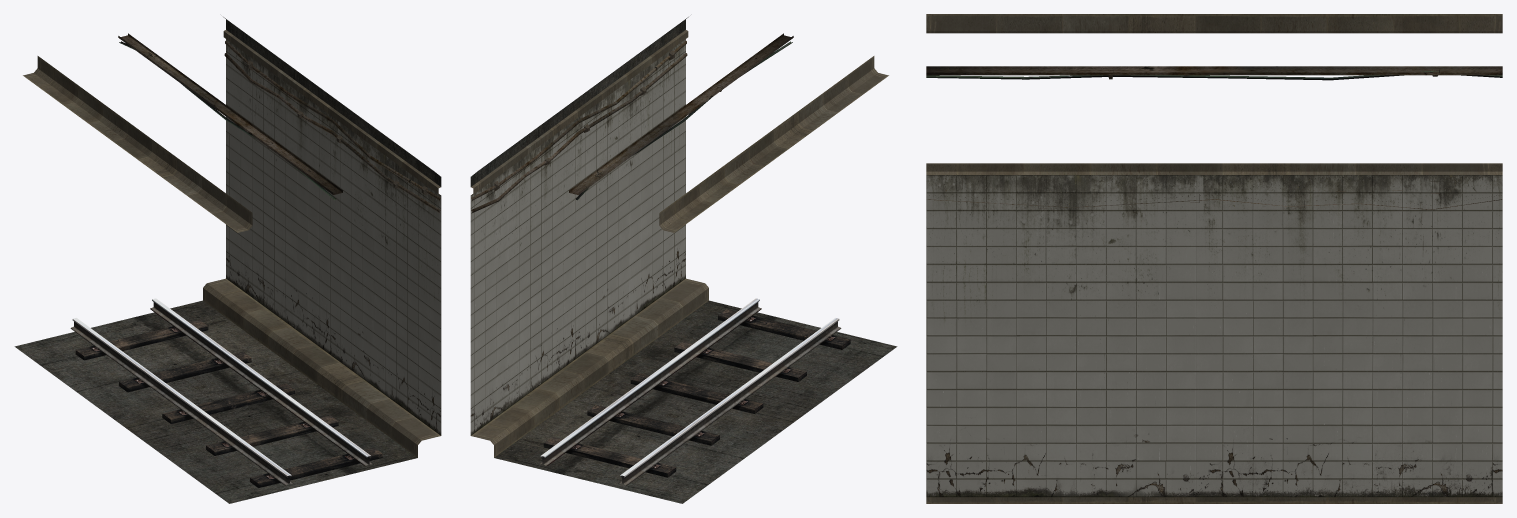
File: TunnelSideA.fbx
3 renders of one model, left to right at view 1: azimuth 30°, elevation 25°; view 2: azimuth 150°, elevation 25°; view 3: azimuth 270°, elevation 25°, orthographic. The views are drawn at different scales.
Visible parts, largest first — view 1: TunnelSideA; view 2: TunnelSideA; view 3: TunnelSideA.
Boxes of the visible parts, x1=… form: TunnelSideA: x1=14, y1=17, x2=441, y2=503; TunnelSideA: x1=470, y1=17, x2=897, y2=503; TunnelSideA: x1=926, y1=14, x2=1502, y2=503.
Size of the model in its own units: 428 by 557 by 751.
